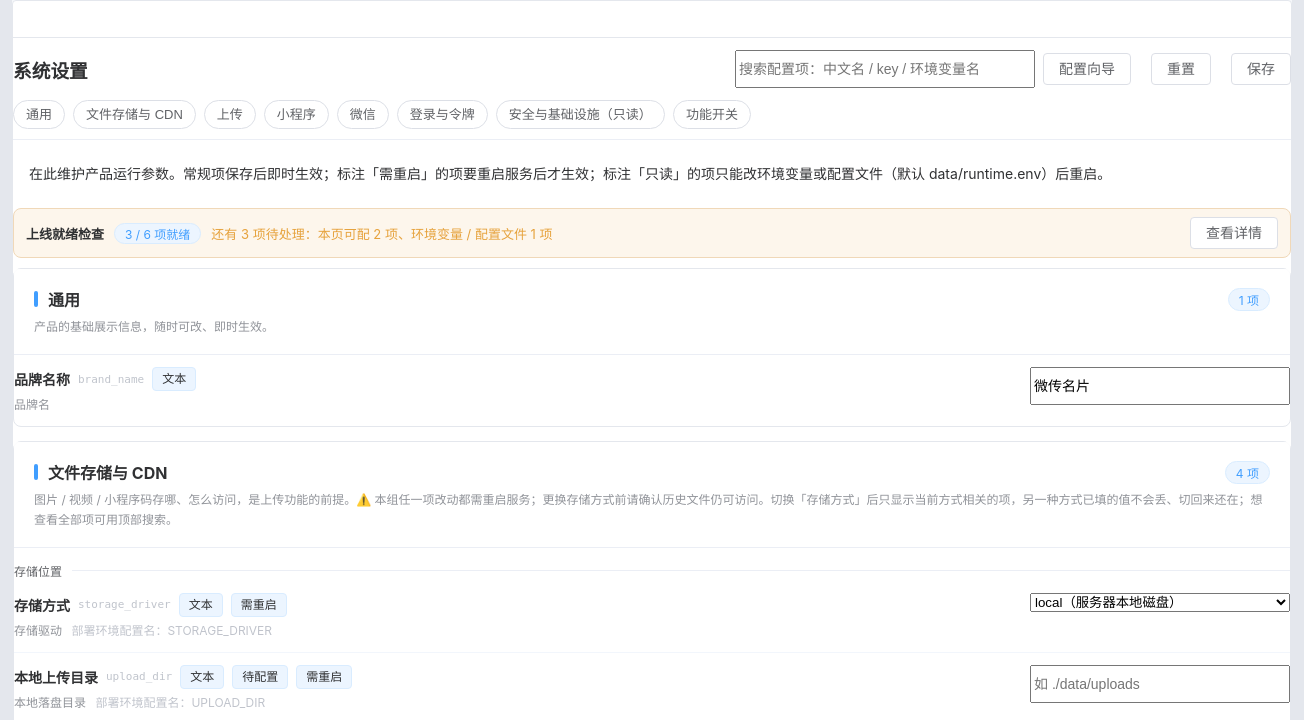
Scenario: Settings 系统设置 › 重置：把改动改回服务端原值，不再有变更
Check: the element showing "品牌名称 brand_name 文本 品牌名" is shown, box [14,355,1290,426]
Replace the text in the 2nd field with "临时品牌" at (1160, 386), box [1030,367,1290,405]
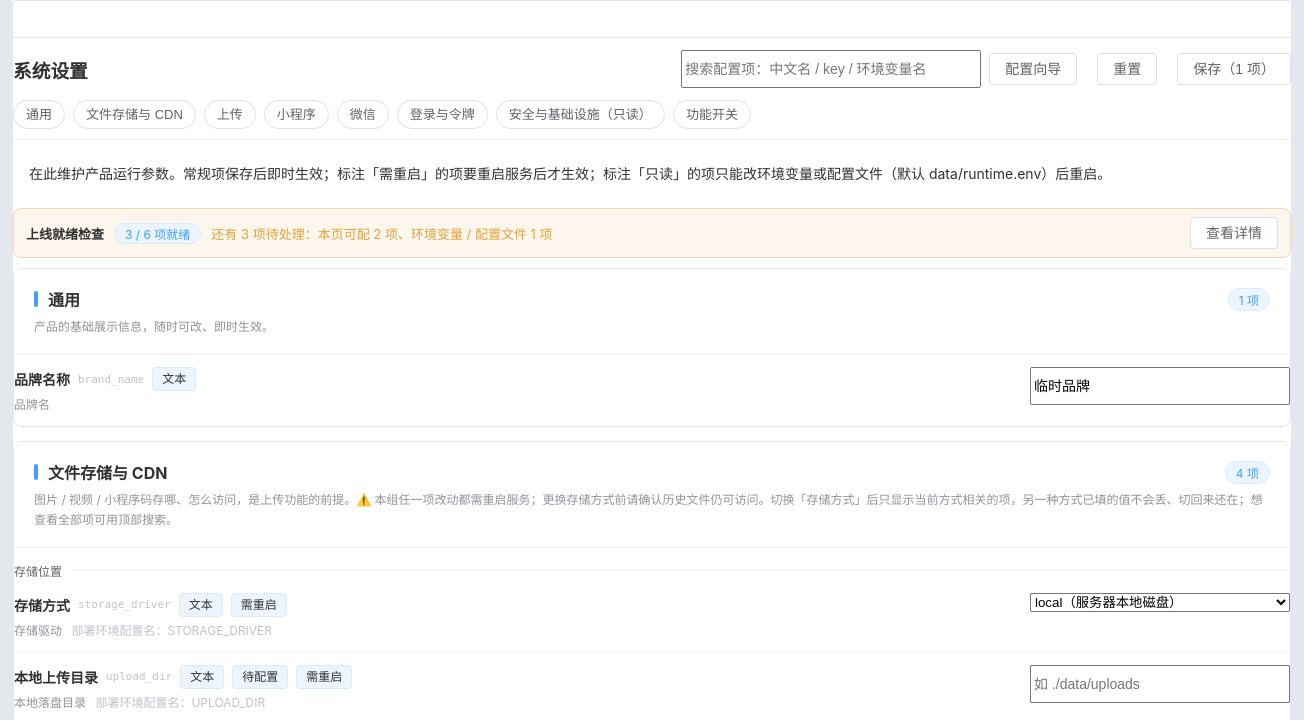
Check: the button "保存（1 项）" is enabled, box [1177,53,1291,85]
Click the button "重置" at (1127, 69), box [1097,53,1157,85]
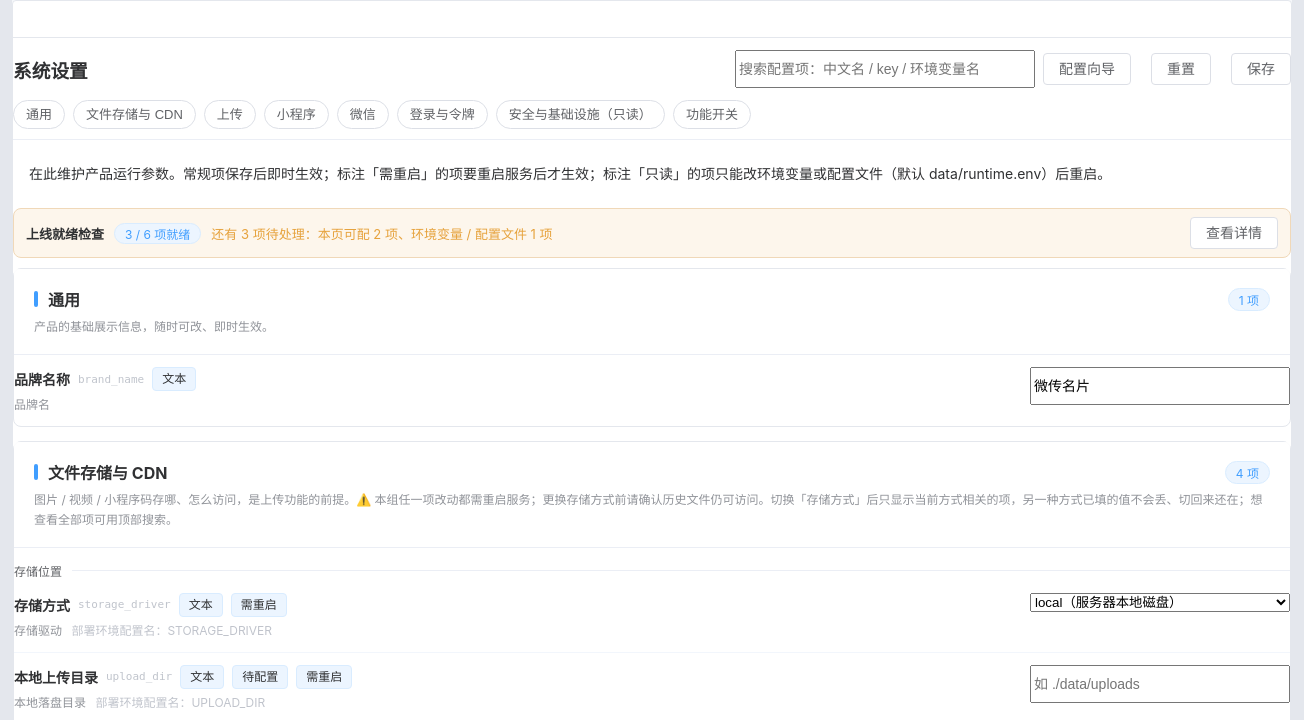
Check: the 2nd field holds "微传名片", box [1030,367,1290,405]
Check: the button "保存" is disabled, box [1231,53,1291,85]
